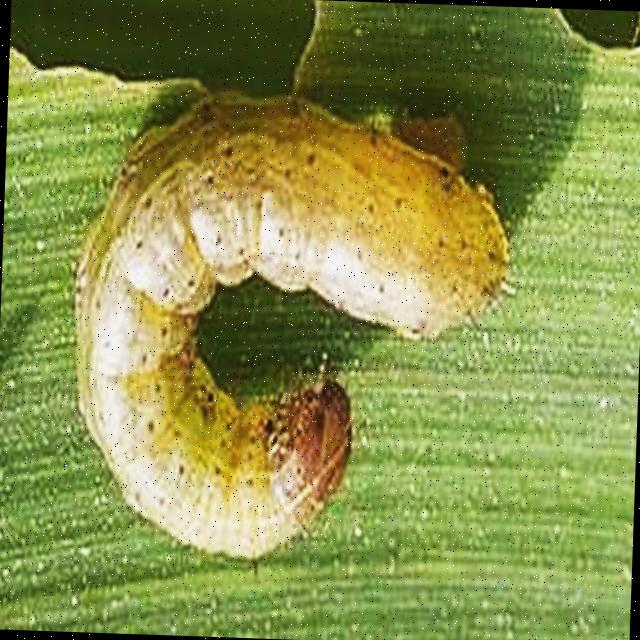worm: (63, 82, 519, 574)
